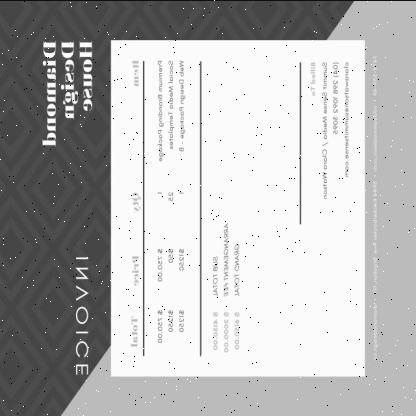Paragraph: (36, 34, 96, 148), (306, 56, 352, 203), (208, 219, 244, 356), (70, 249, 92, 379)
Table: (127, 52, 201, 356)
